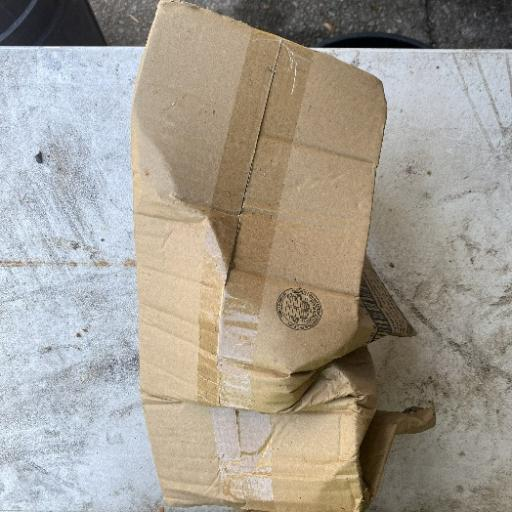Cardboard: (129, 1, 436, 509)
